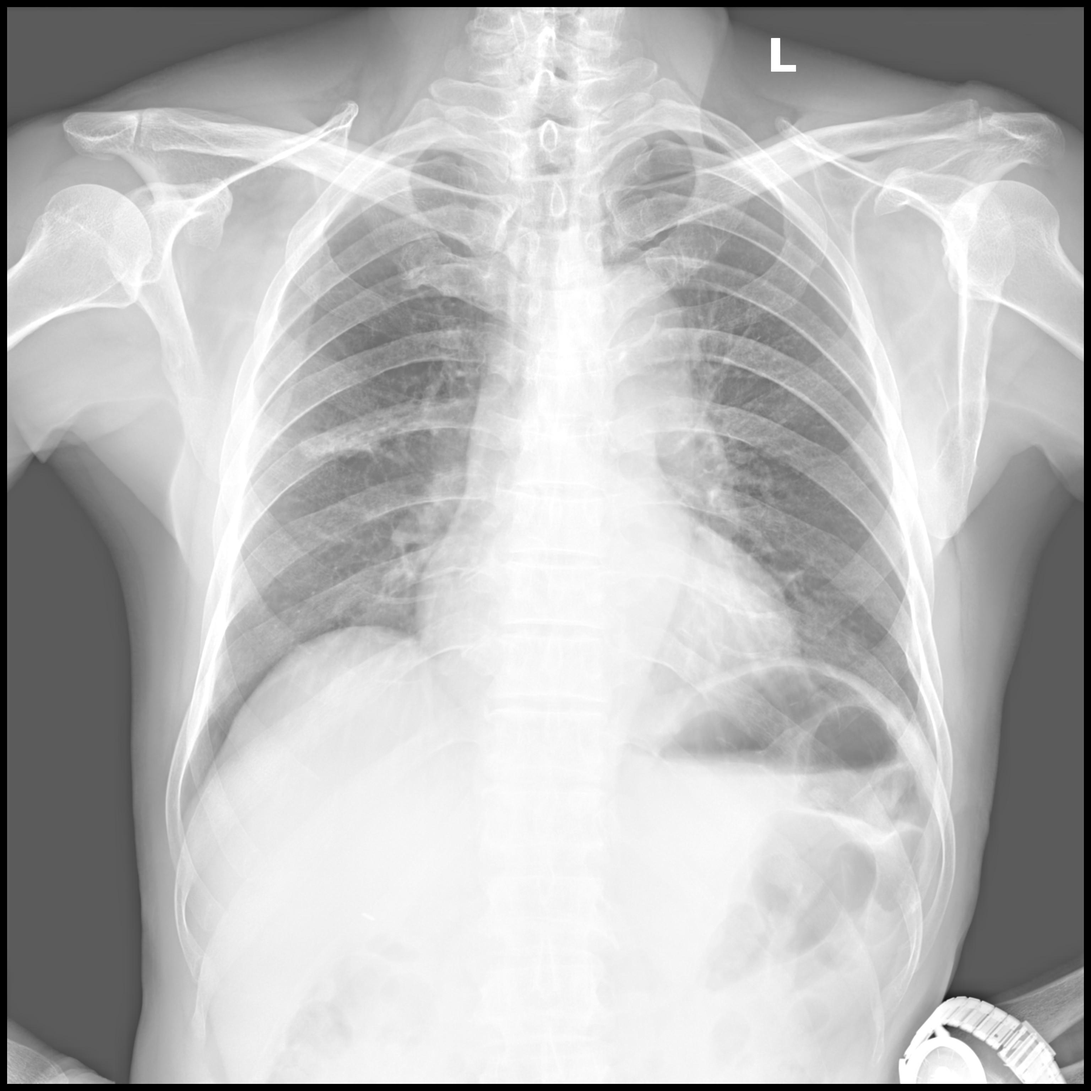Aortic enlargement: (570, 270, 692, 402)
